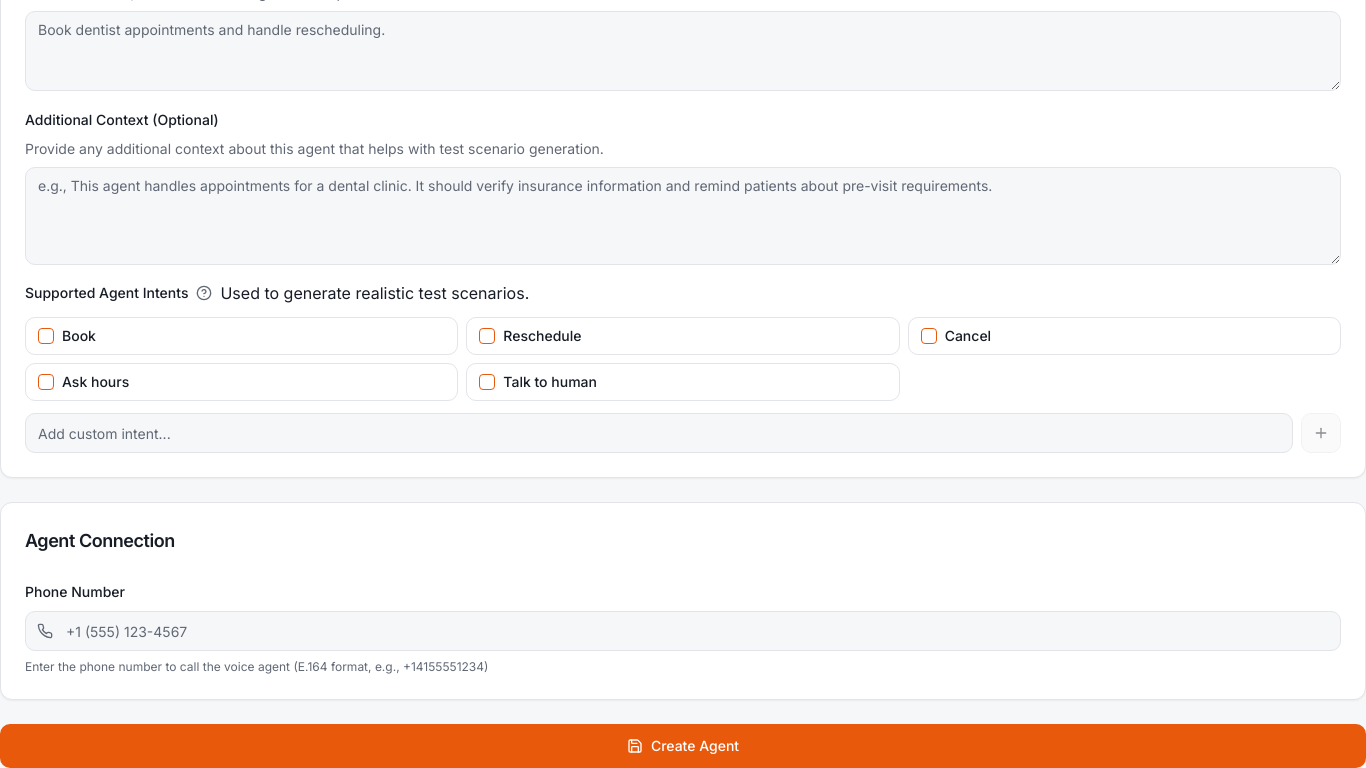
Test: AgentConfigForm › validation › shows error when name is empty
(page scrolled)
Click the button "Create Agent" at (683,746), box [0,724,1365,767]
(page scrolled)
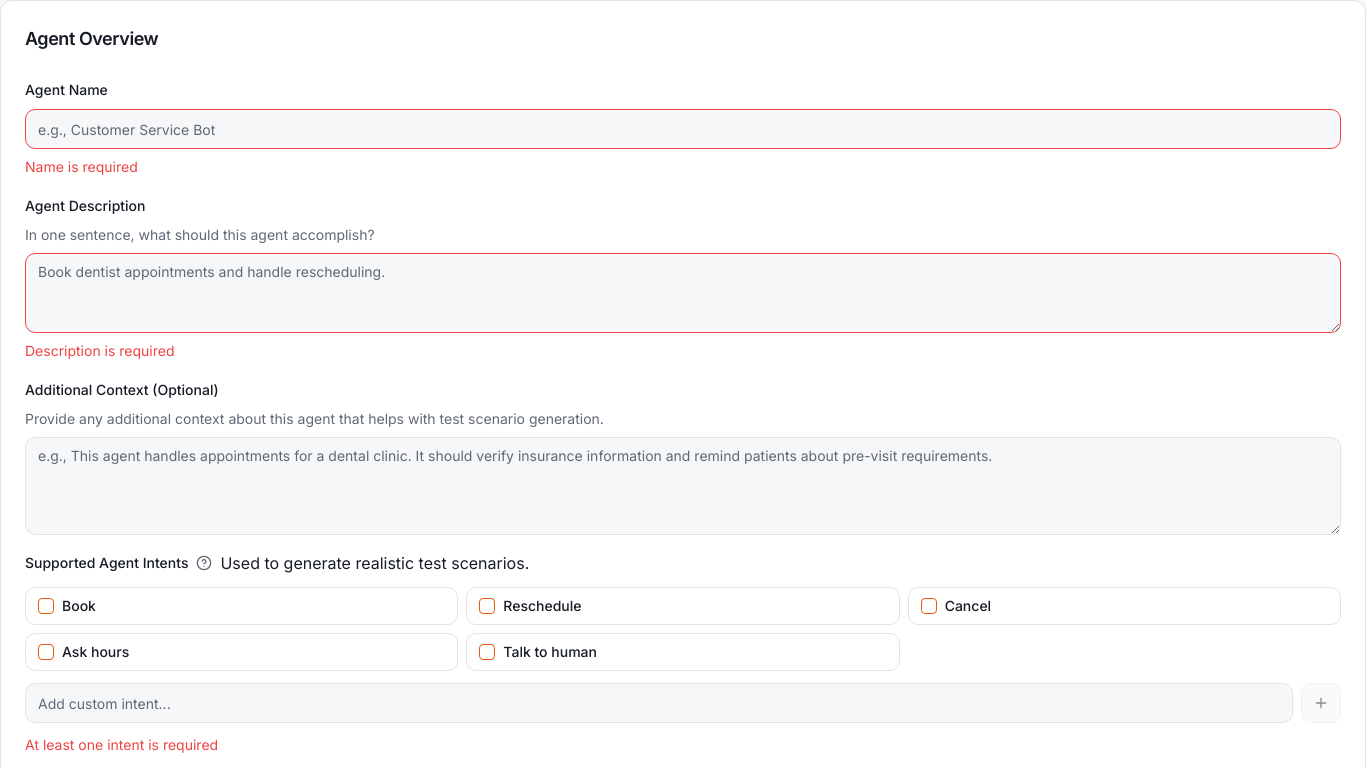
Expected: the text "Name is required" is shown, [25,158,138,175]
